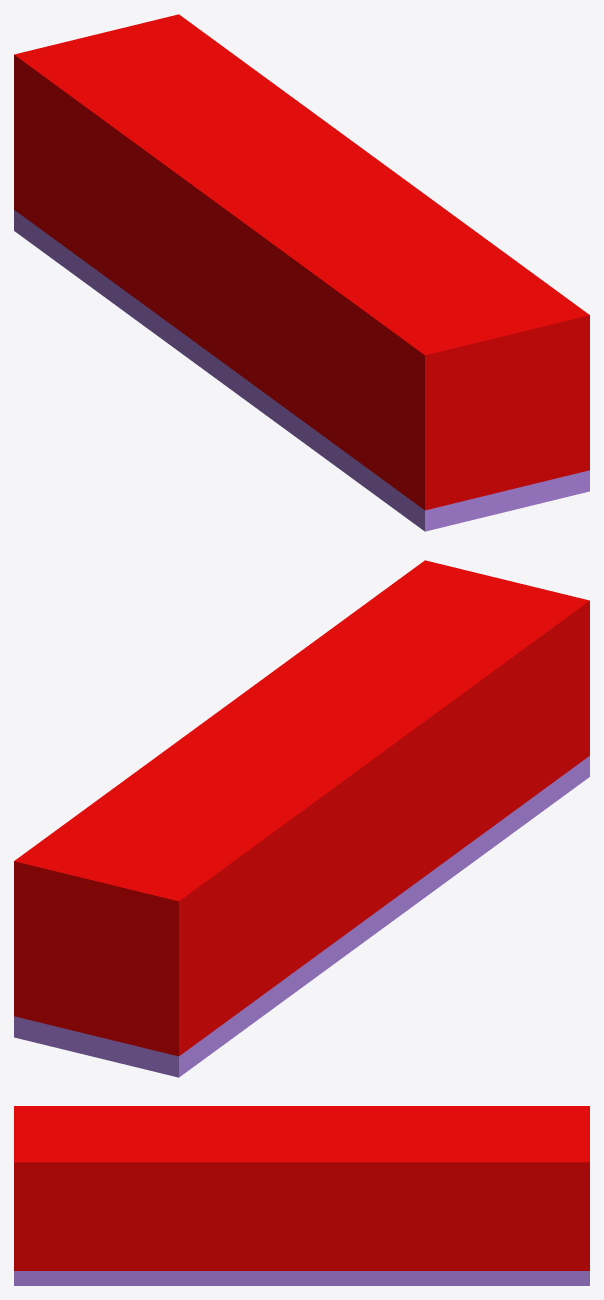
The model's file is shelving_unit9.FBX.
3 renders of one model, top to bottom at view 1: azimuth 30°, elevation 25°; view 2: azimuth 150°, elevation 25°; view 3: azimuth 270°, elevation 25°, orthographic. The views are drawn at different scales.
Parts seen in each view (by area): view 1: Box001; view 2: Box001; view 3: Box001.
Boxes of the visible parts, left/top/right/bottom form: Box001: left=14, top=14, right=589, bottom=531; Box001: left=14, top=560, right=589, bottom=1077; Box001: left=14, top=1106, right=589, bottom=1285.
Bounding box in the file's own units: 94.84 × 96.84 × 409.
